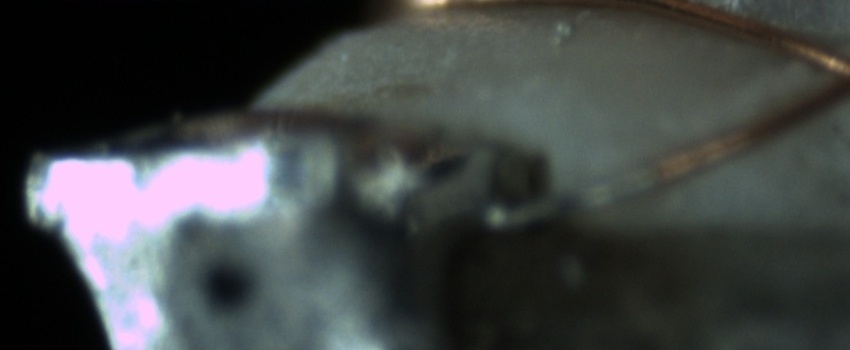CL: (800, 35, 849, 114)
TS: (487, 166, 658, 234)
